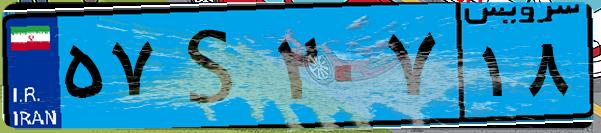0: (330, 28, 385, 110)
1: (475, 38, 525, 113)
2: (270, 28, 330, 110)
5: (57, 26, 110, 100)
7: (385, 28, 445, 110), (110, 28, 158, 98)
8: (525, 38, 570, 115)
S: (158, 12, 270, 120)
